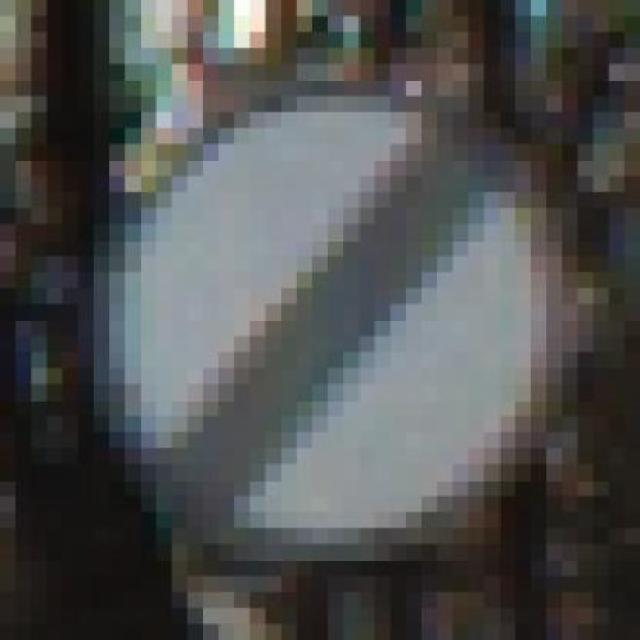End of all speed and passing limits: (93, 80, 578, 560)
